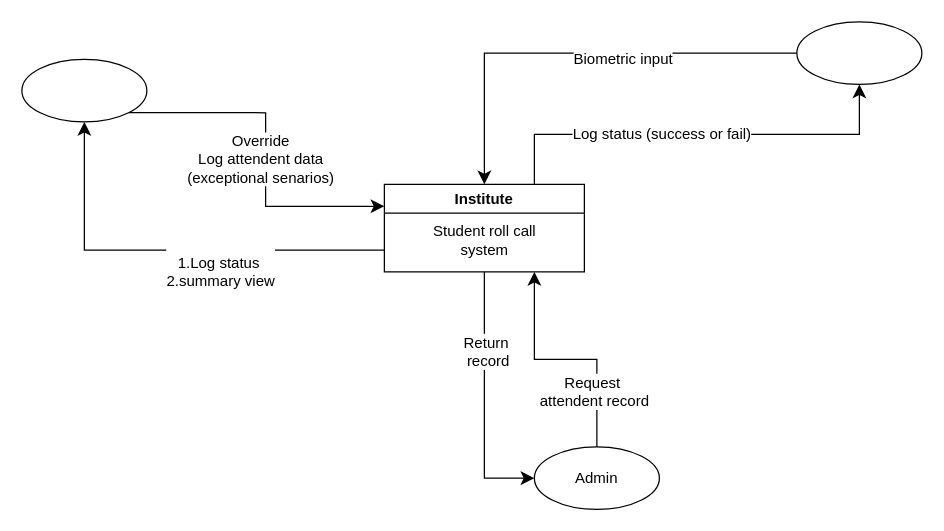
Some shapes in this 944 by 531 pixel diagram are drawn without their labels. Here are the shapes that lost their labels. From the top down, the centre of each, then its label:
At [859,52]: "Students".
At [84,90]: "Teacher".
